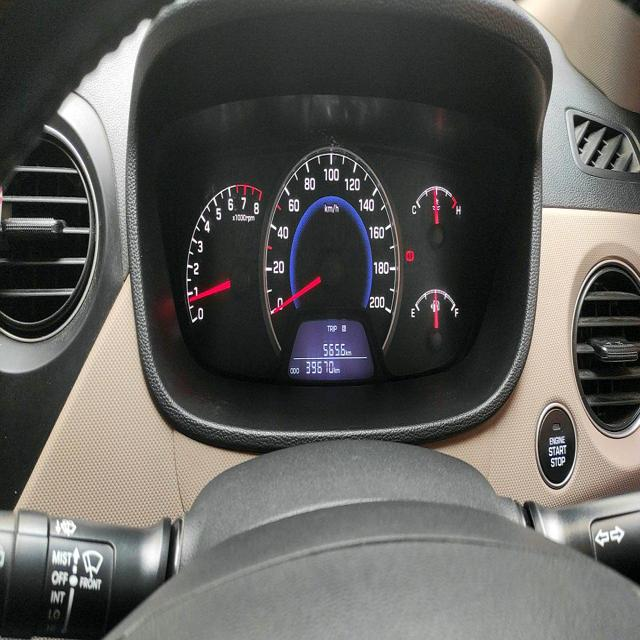odometer: (304, 357, 334, 377)
